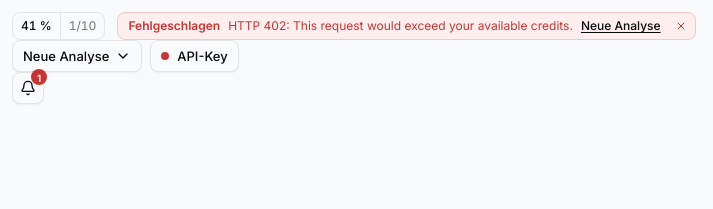
Test: analysis run header › shows progress and the provider error with a way to start a new analysis
Expected: the text "41 %" is shown, [21,18,52,33]
Expected: the message shows "Fehlgeschlagen", [128,18,220,33]
Der Link in der Meldung öffnet das Menü „Neue Analyse", nicht das Schlüsselfeld.
Click the button "Neue Analyse" in the row of "Fehlgeschlagen" at (621, 26), box [581,18,661,34]
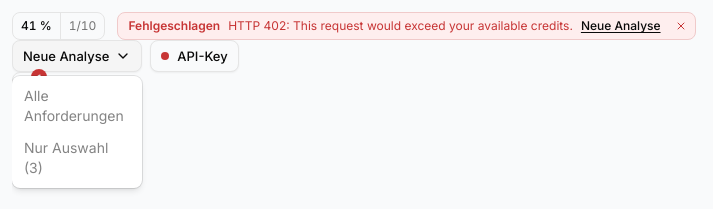
Expected: the menu item "Alle Anforderungen" is shown, [24,87,124,124]
